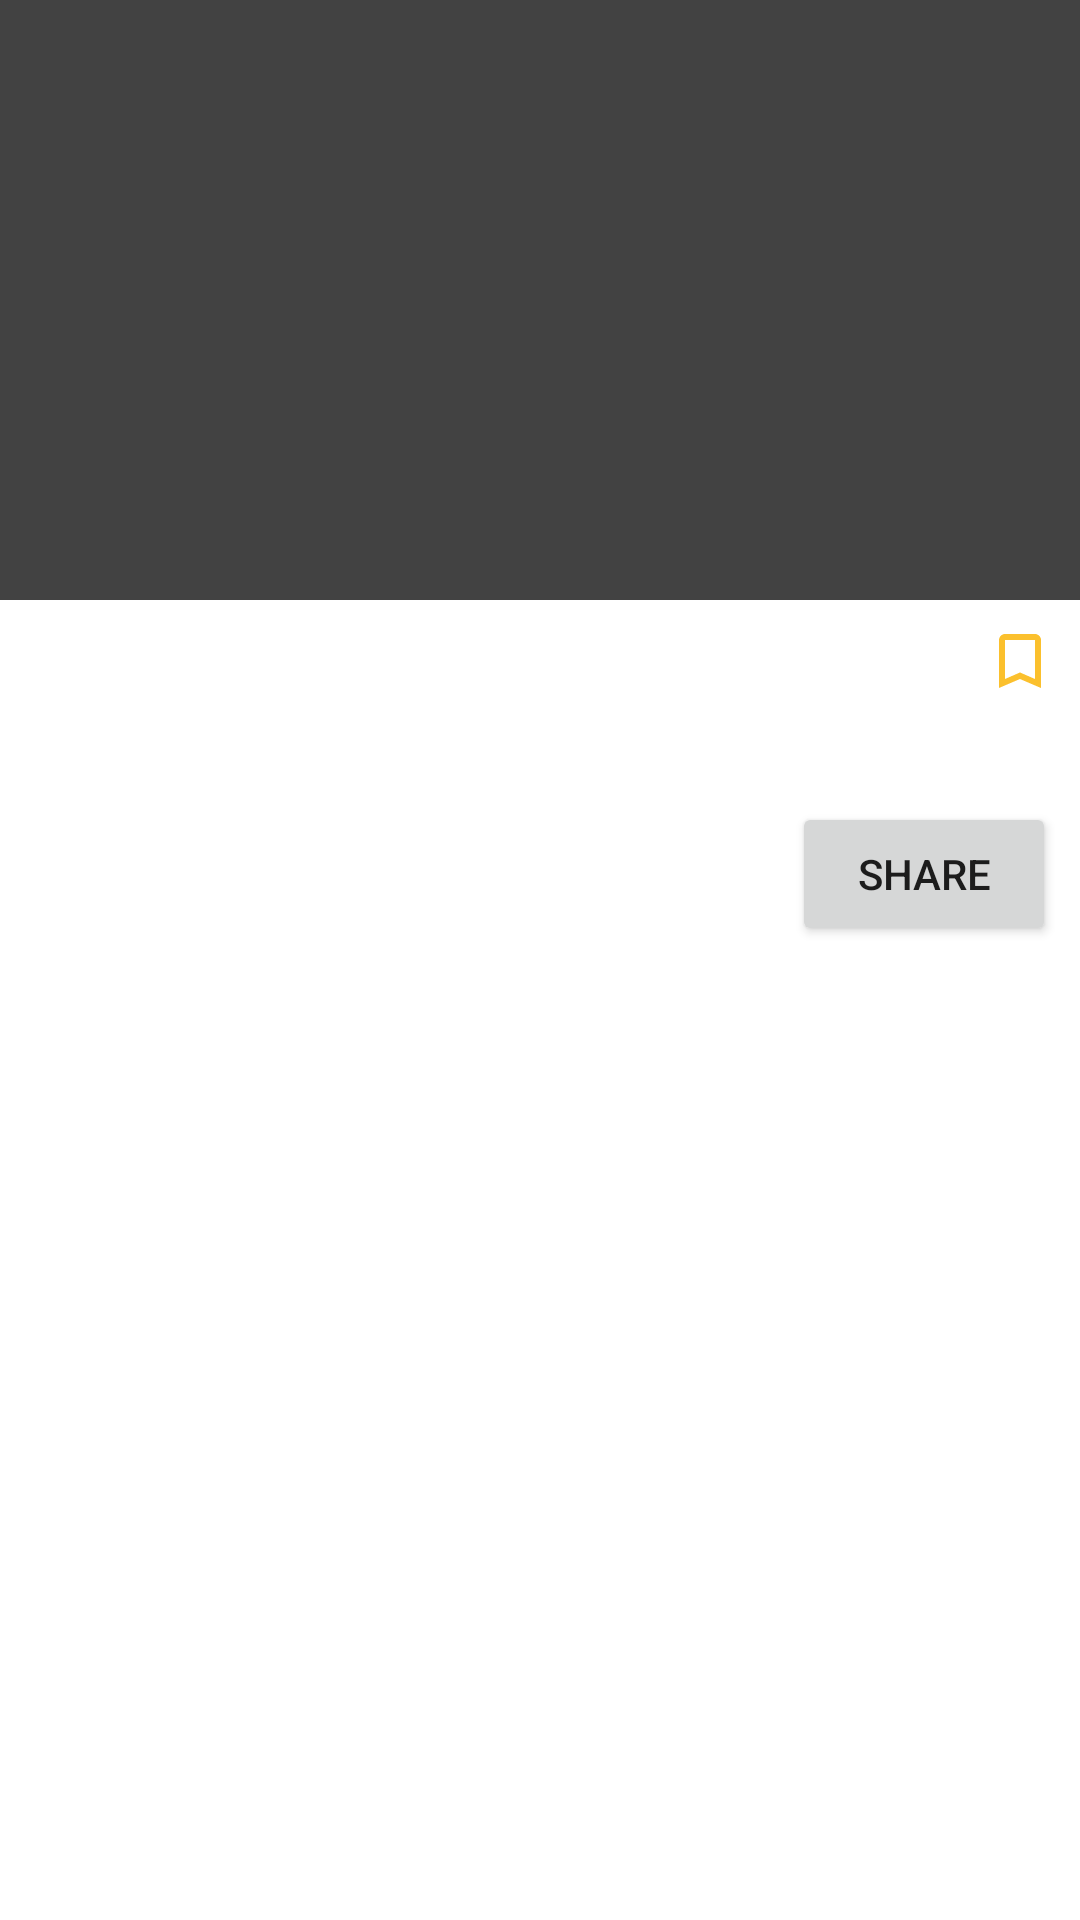

Icons on this 1080 × 1920 Android screen, each with the point to tap as (x=x, y=y):
Bookmark status of feed: (x=1020, y=661)
